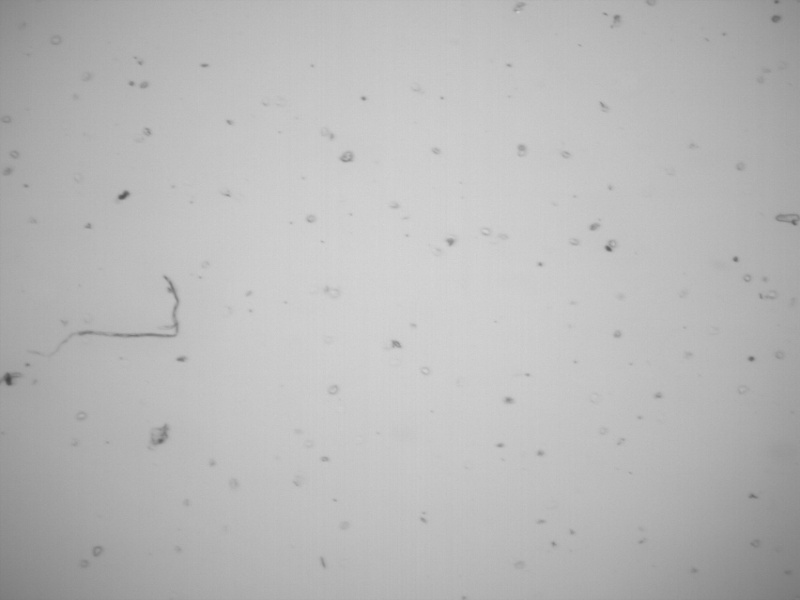fiber: (24, 269, 183, 360)
